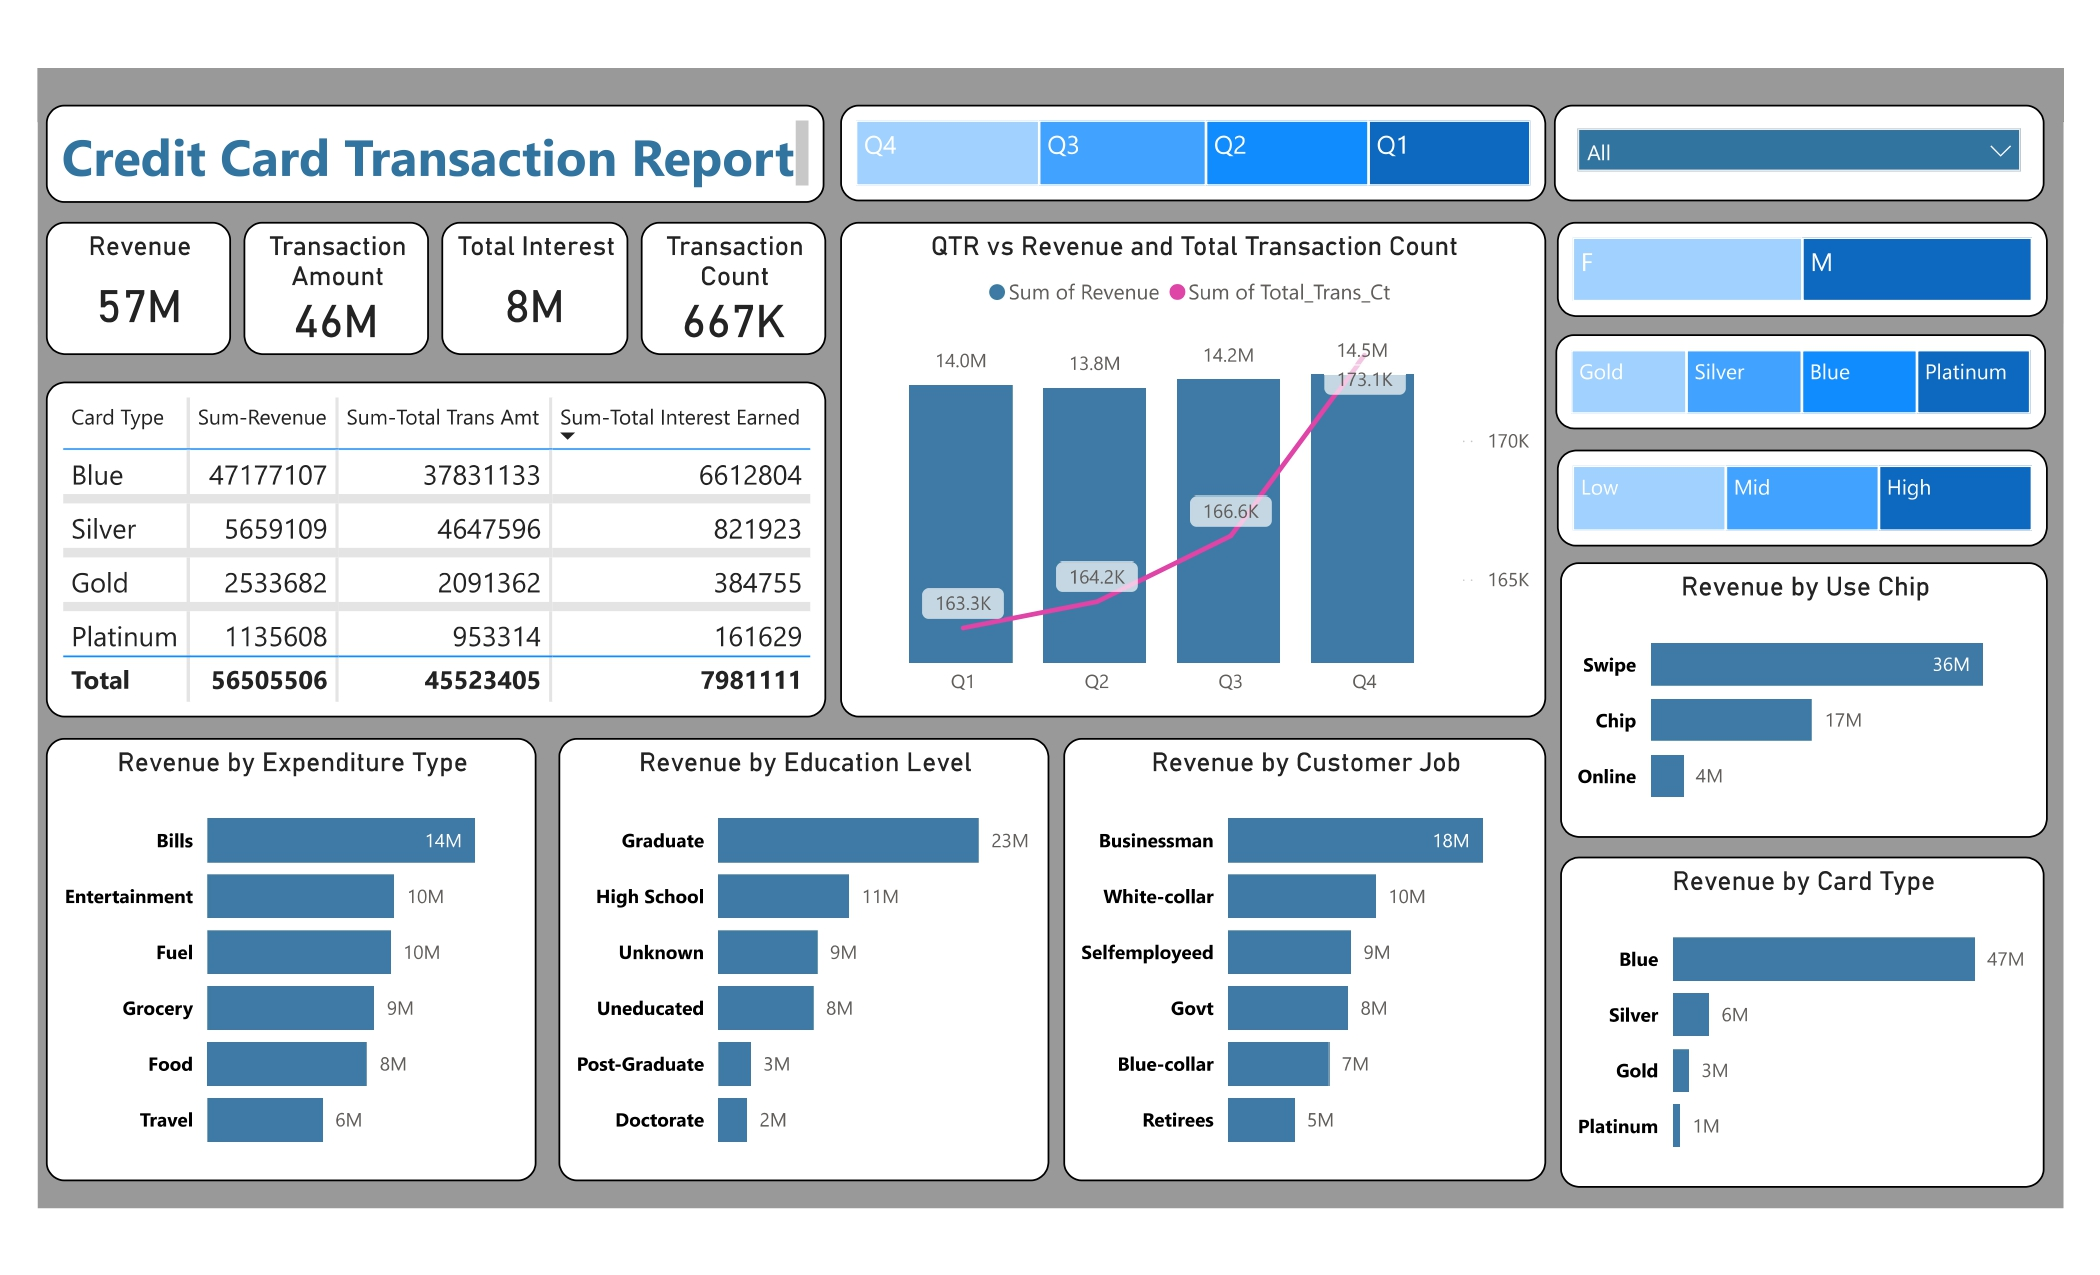

What the dashboard file says about the page in this screenshot:
{"tool":"powerbi","page":{"name":"CC Transaction","canvas":[1280,720],"ordinal":1},"visuals":[{"type":"textbox","box":[4.8,22.9,492.2,62],"z":0},{"type":"lineStackedColumnComboChart","title":"QTR vs Revenue and Total Transaction Count","fields":{"Category":["ccdb cc_detail.Qtr"],"Y":["Sum(ccdb cc_detail.Revenue)"],"Y2":["Sum(ccdb cc_detail.Total_Trans_Ct)"]},"box":[506.7,96.5,446.4,313.7],"z":1000},{"type":"barChart","title":"Revenue by Expenditure Type","fields":{"Y":["Sum(ccdb cc_detail.Revenue)"],"Category":["ccdb cc_detail.Exp_Type"]},"box":[4.8,423.5,310.1,279.9],"z":2000},{"type":"barChart","title":"Revenue by Education Level","fields":{"Y":["Sum(ccdb cc_detail.Revenue)"],"Category":["ccdb cust_detail.Education_Level"]},"box":[329.4,423.5,310.1,280],"z":3000},{"type":"barChart","title":"Revenue by Customer Job","fields":{"Y":["Sum(ccdb cc_detail.Revenue)"],"Category":["ccdb cust_detail.Customer_Job"]},"box":[647.9,423.5,305.2,279.9],"z":4000},{"type":"barChart","title":"Revenue by Card Type","fields":{"Y":["Sum(ccdb cc_detail.Revenue)"],"Category":["ccdb cc_detail.Card_CAtegory"]},"box":[961.5,498.3,306.4,208.7],"z":5000},{"type":"barChart","title":"Revenue by Use Chip","fields":{"Y":["Sum(ccdb cc_detail.Revenue)"],"Category":["ccdb cc_detail.Use_Chip"]},"box":[961.5,312.5,308.8,173.7],"z":6000},{"type":"tableEx","fields":{"Values":["ccdb cc_detail.Card_CAtegory","Sum(ccdb cc_detail.Revenue)","Sum(ccdb cc_detail.Total_Trans_Amt)","Sum(ccdb cc_detail.Interest_Earned)"]},"box":[4.8,197.9,493.4,212.3],"z":7000},{"type":"card","title":"Revenue","fields":{"Values":["Sum(ccdb cc_detail.Revenue)"]},"box":[4.8,96.5,117,84.5],"z":8000},{"type":"card","title":"Transaction Amount","fields":{"Values":["Sum(ccdb cc_detail.Total_Trans_Amt)"]},"box":[130,96.5,117,84.5],"z":9000},{"type":"card","title":"Total Interest","fields":{"Values":["Sum(ccdb cc_detail.Interest_Earned)"]},"box":[255,96.5,118,84.5],"z":10000},{"type":"card","title":"Transaction Count","fields":{"Values":["Sum(ccdb cc_detail.Total_Trans_Ct)"]},"box":[381.2,96.5,117,84.5],"z":11000},{"type":"slicer","fields":{"Values":["ccdb cc_detail.Week_Start_Date"]},"box":[957.9,22.9,310.1,61.5],"z":12000},{"type":"treemap","fields":{"Group":["ccdb cc_detail.Qtr"],"Values":["Avg(ccdb cc_detail.Client_Num)"]},"box":[506.7,22.9,446.4,61.5],"z":13000},{"type":"treemap","fields":{"Group":["ccdb cust_detail.Gender"],"Values":["Avg(ccdb cc_detail.Client_Num)"]},"box":[960.3,96.5,310.1,60.3],"z":14000},{"type":"treemap","fields":{"Group":["ccdb cc_detail.Card_CAtegory"],"Values":["Avg(ccdb cc_detail.Client_Num)"]},"box":[959.1,167.7,310.1,60.3],"z":15000},{"type":"treemap","fields":{"Group":["ccdb cust_detail.IncomeGroup"],"Values":["Max(ccdb cc_detail.Client_Num)"]},"box":[960.3,241.3,310.1,60.3],"z":16000}]}

Visuals, with their boxes in screenshot pixels (x1, y1, x2, y2):
textbox: BBox(51, 107, 819, 204)
"QTR vs Revenue and Total Transaction Count" lineStackedColumnComboChart: BBox(835, 222, 1531, 711)
"Revenue by Expenditure Type" barChart: BBox(51, 732, 535, 1169)
"Revenue by Education Level" barChart: BBox(558, 732, 1042, 1169)
"Revenue by Customer Job" barChart: BBox(1055, 732, 1531, 1169)
"Revenue by Card Type" barChart: BBox(1544, 849, 2022, 1174)
"Revenue by Use Chip" barChart: BBox(1544, 559, 2026, 830)
tableEx - ccdb cc_detail.Card_CAtegory x Sum(ccdb cc_detail.Revenue): BBox(51, 380, 821, 711)
"Revenue" card: BBox(51, 222, 234, 354)
"Transaction Amount" card: BBox(247, 222, 429, 354)
"Total Interest" card: BBox(442, 222, 626, 354)
"Transaction Count" card: BBox(639, 222, 821, 354)
slicer - ccdb cc_detail.Week_Start_Date: BBox(1539, 107, 2023, 203)
treemap - ccdb cc_detail.Qtr x Avg(ccdb cc_detail.Client_Num): BBox(835, 107, 1531, 203)
treemap - ccdb cust_detail.Gender x Avg(ccdb cc_detail.Client_Num): BBox(1542, 222, 2026, 316)
treemap - ccdb cc_detail.Card_CAtegory x Avg(ccdb cc_detail.Client_Num): BBox(1541, 333, 2024, 427)
treemap - ccdb cust_detail.IncomeGroup x Max(ccdb cc_detail.Client_Num): BBox(1542, 448, 2026, 542)
